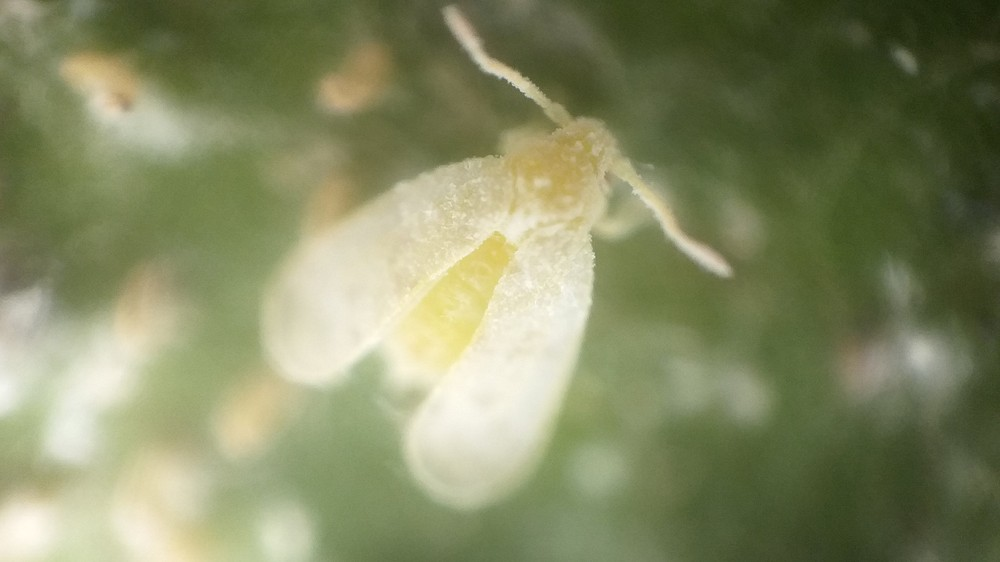Mosca Blanca: (253, 11, 741, 509)
